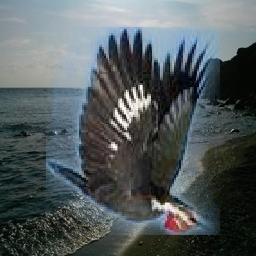Woodpecker: (46, 27, 220, 235)
